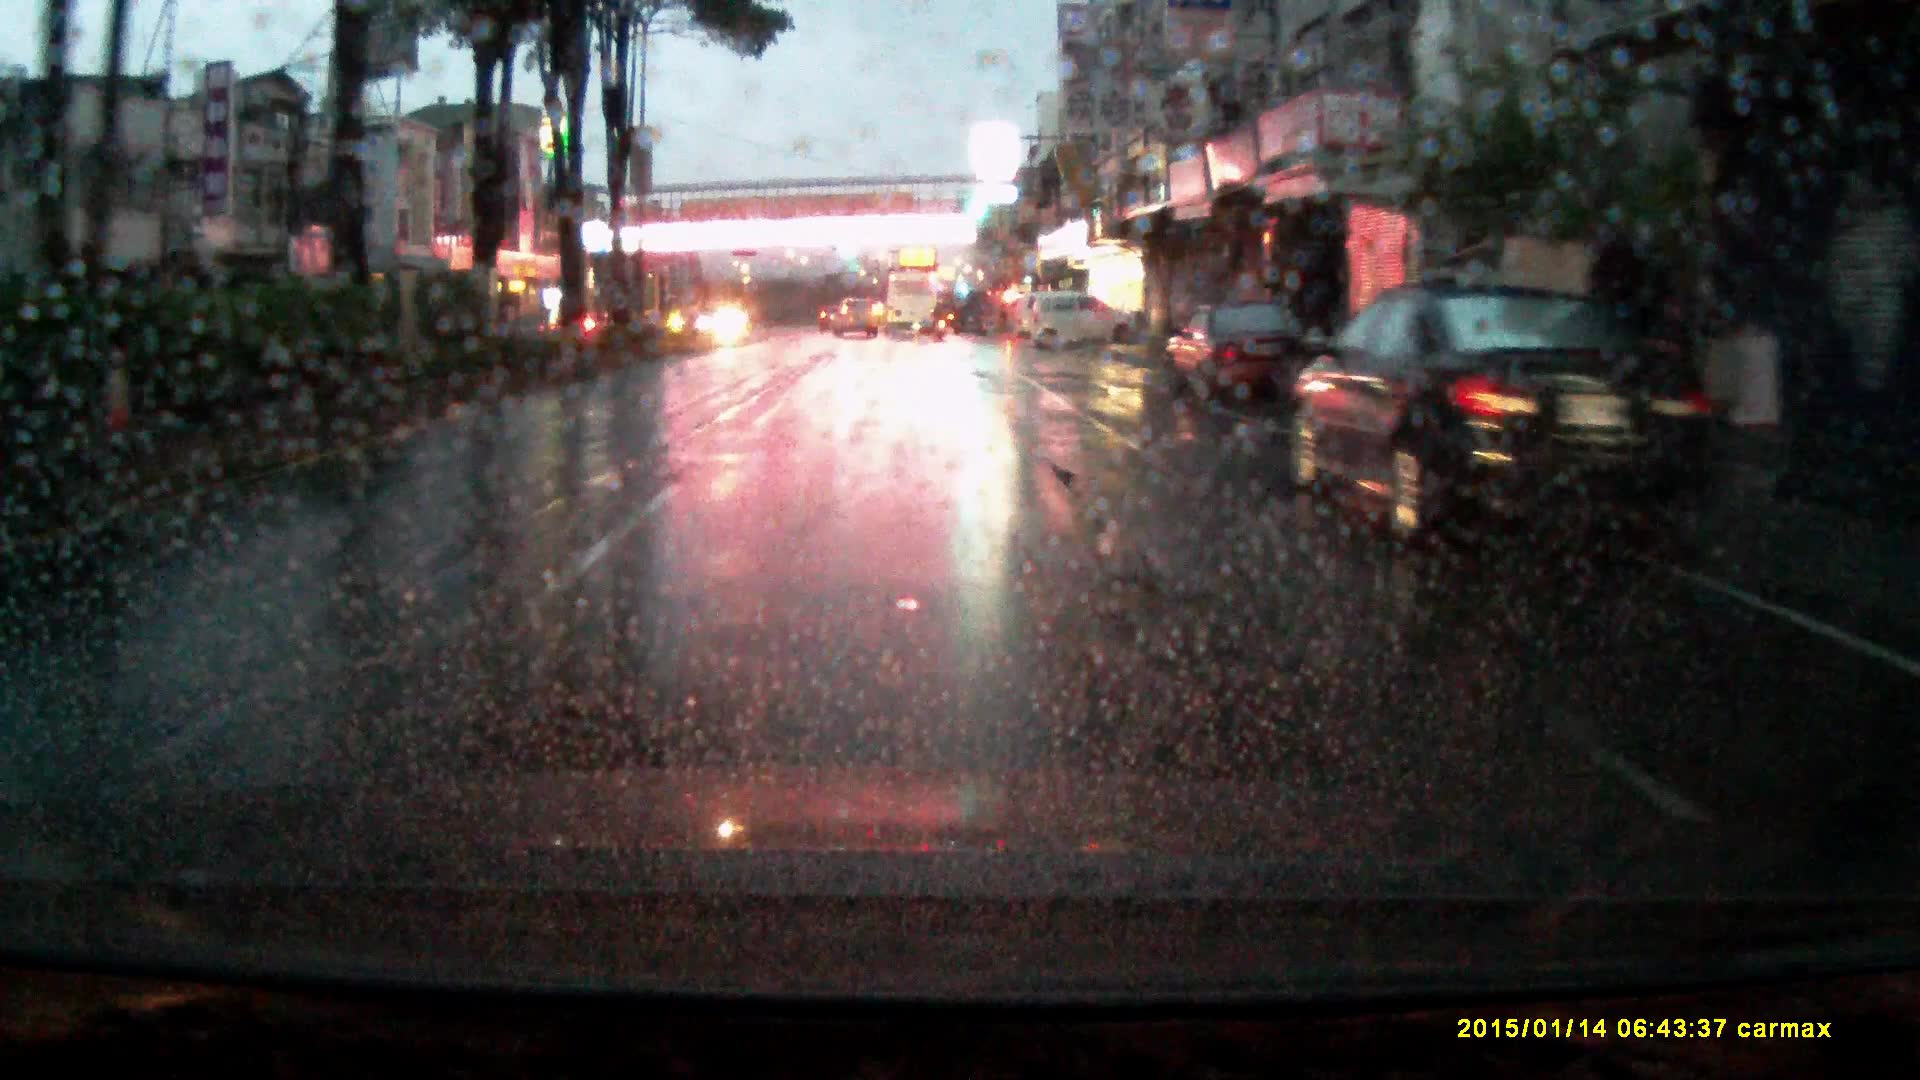vehicle: (1283, 284, 1726, 549), (1164, 305, 1329, 414), (1026, 291, 1142, 352), (884, 274, 938, 331), (833, 295, 880, 338), (818, 305, 839, 330)
